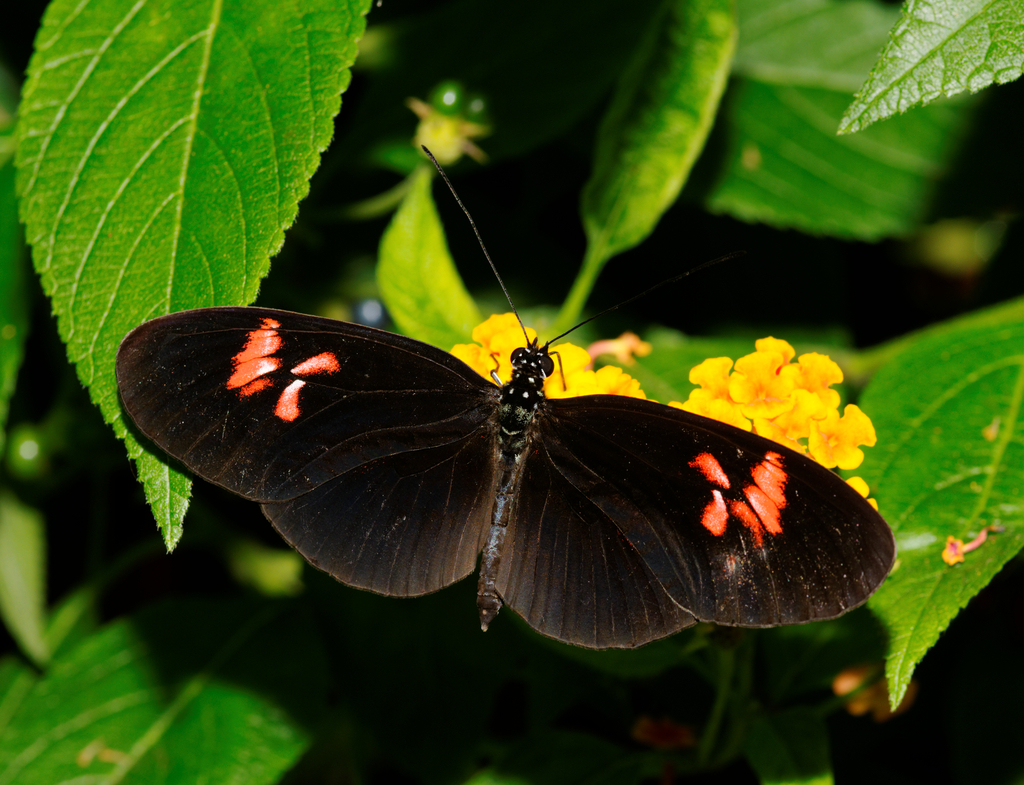Butterfly: (106, 275, 913, 694)
